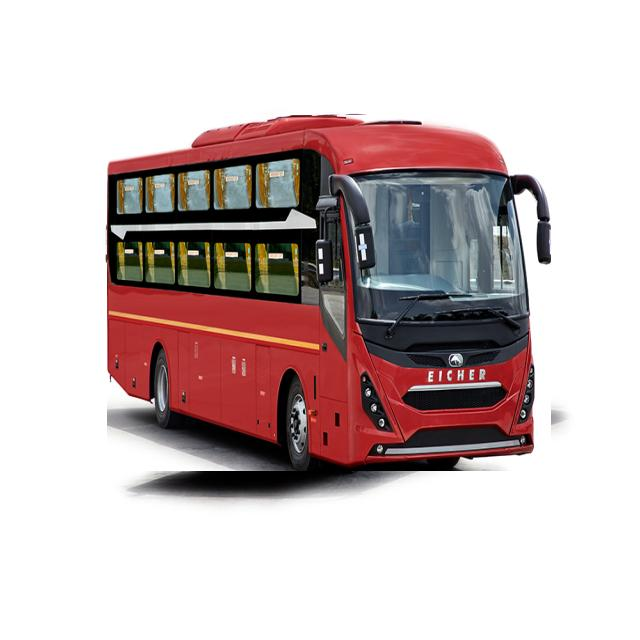bus: (107, 115, 550, 471)
